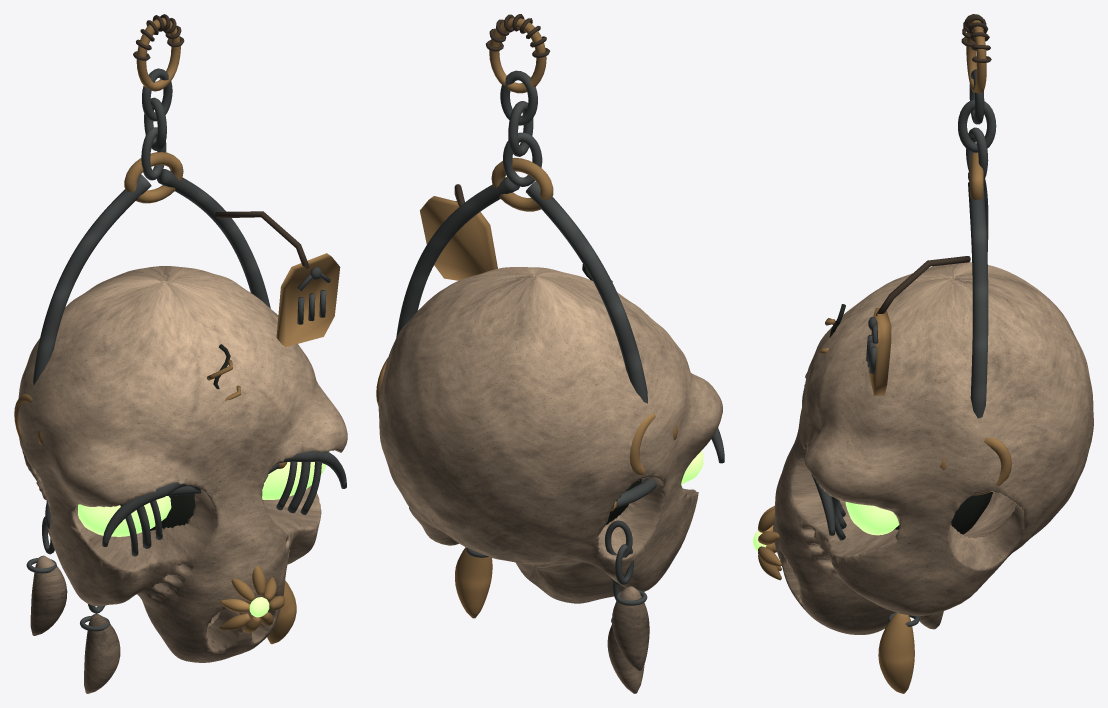
Rendered from Grubenlicht.fbx.
3 views of the same model, side by side, from view 1: azimuth 30°, elevation 25°; view 2: azimuth 150°, elevation 25°; view 3: azimuth 270°, elevation 25° (orthographic). The views are drawn at different scales.
Parts seen in each view (by area): view 1: Grubenlicht_LOD0; view 2: Grubenlicht_LOD0; view 3: Grubenlicht_LOD0.
Part boxes in pixels (x1,y1,x2,y2): Grubenlicht_LOD0: [14, 14, 347, 693]; Grubenlicht_LOD0: [376, 14, 724, 693]; Grubenlicht_LOD0: [753, 14, 1093, 693].
Size of what is drawn, in the model's own units: 18.99 by 42.4 by 19.89.
Materials: 6 (1 with a texture image).
